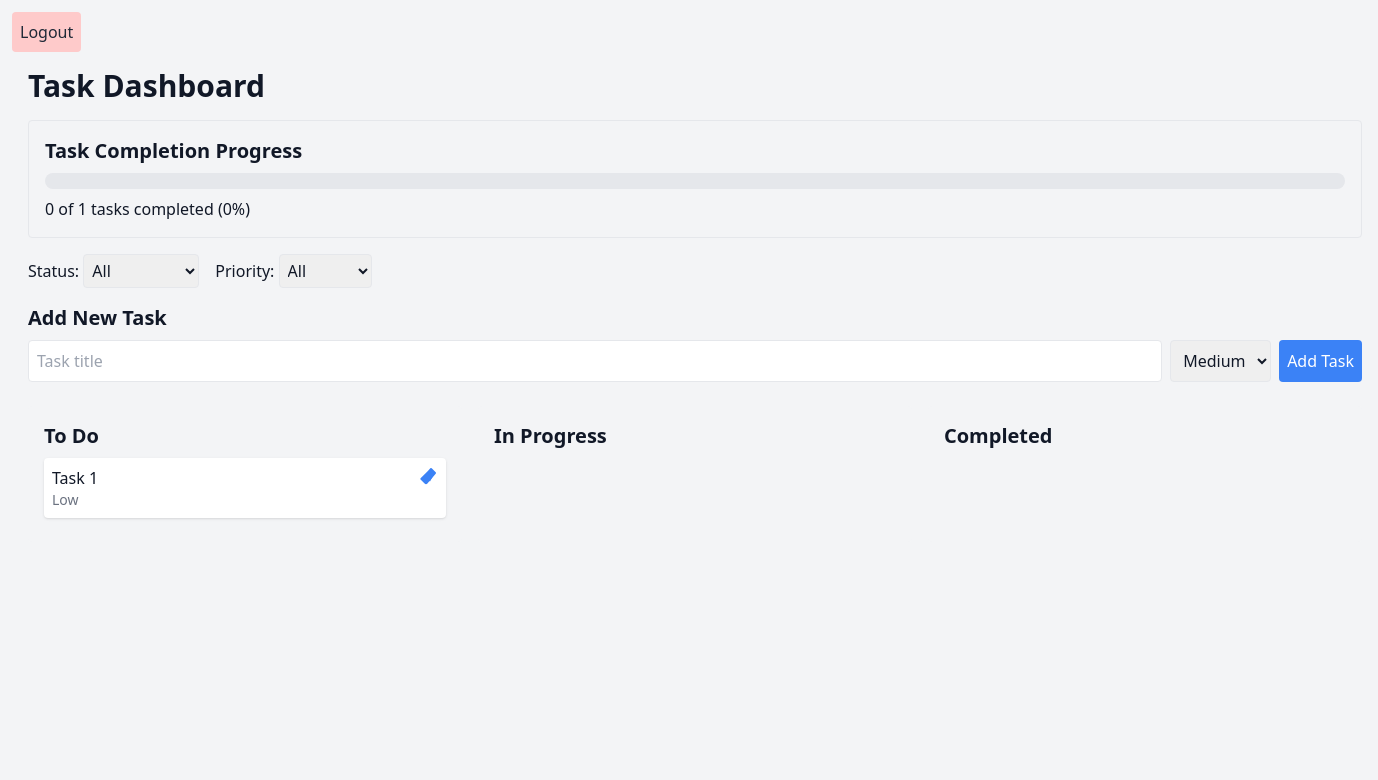
Test: TaskDashboard › adds a new task when AddTaskSection button is clicked
This screenshot has width=1378, height=780.
Expected: the text "Task 1" is shown, 52,467 -> 98,489
Note: Click the "Add Task" button from the stubbed AddTaskSection
Step 1. Click the button "Add Task" → point(1321, 361), box 1279,340 -> 1362,382
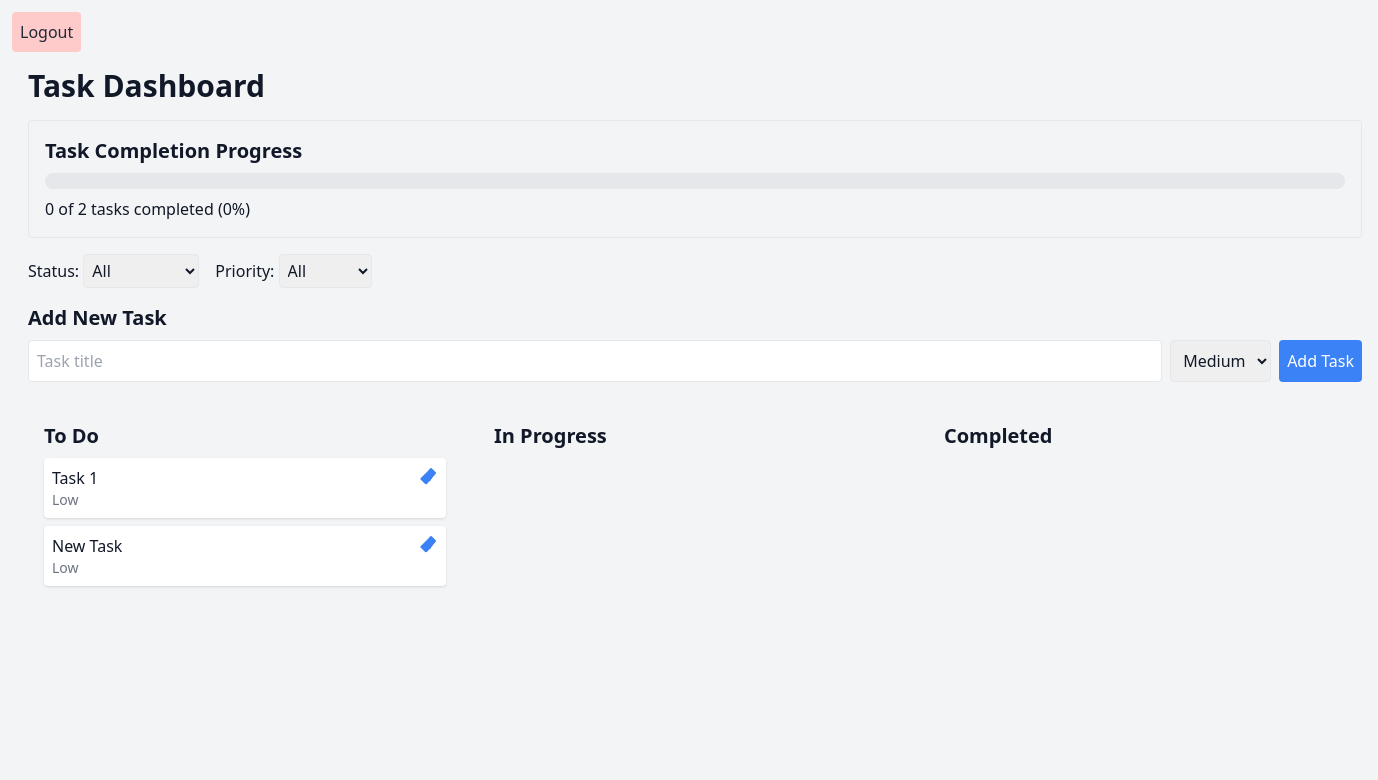
Expected: the text "New Task" is shown, 52,535 -> 122,557
